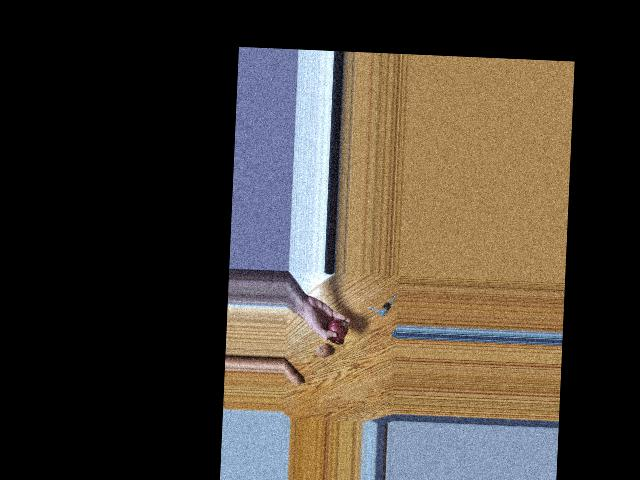onion: (328, 318, 347, 340)
